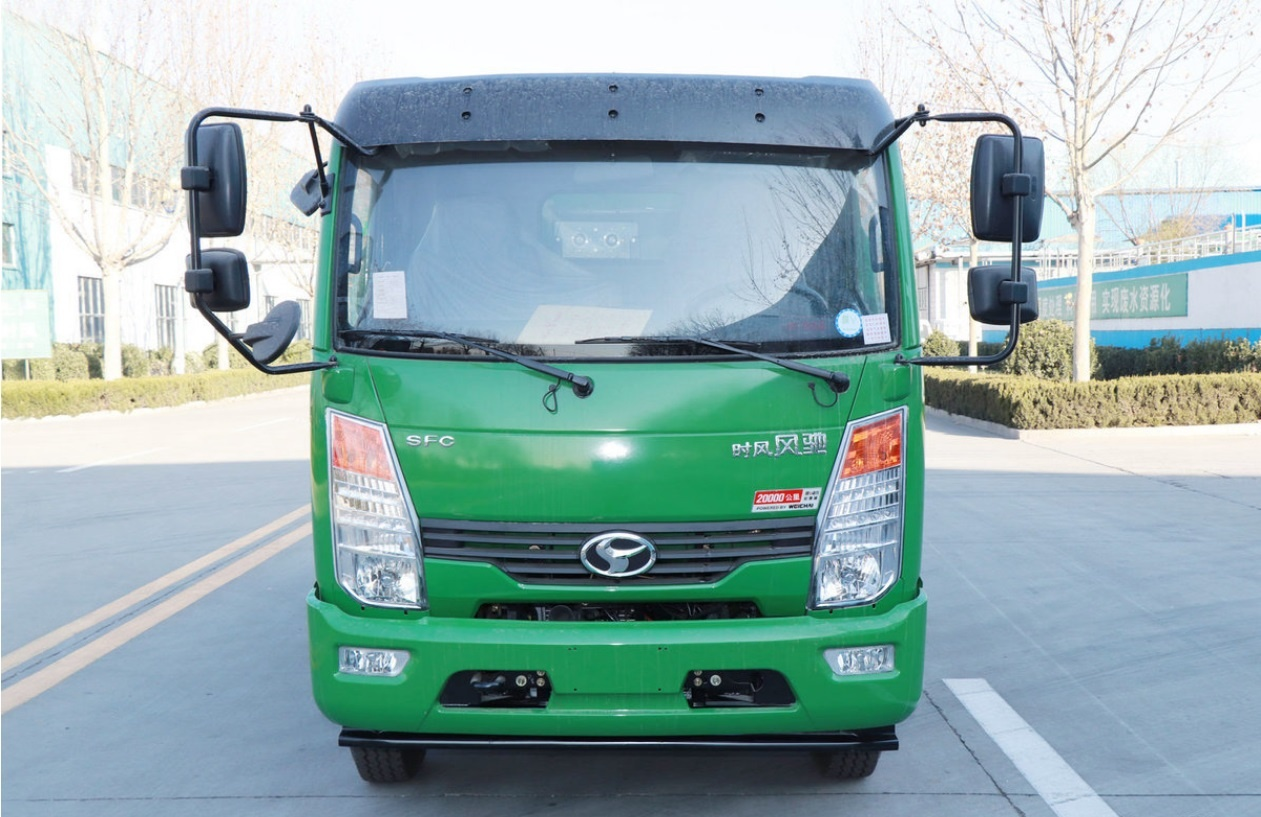truck: (215, 48, 995, 814)
